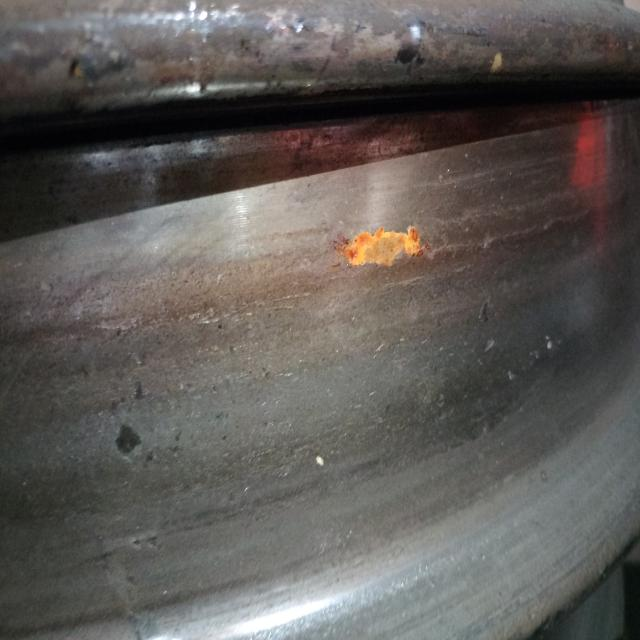Blue hole: (112, 417, 158, 471), (391, 18, 429, 77)
Contact_Fatigue_Cracks: (93, 298, 302, 333)
